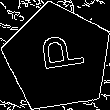P_W: (30, 35, 86, 80)
